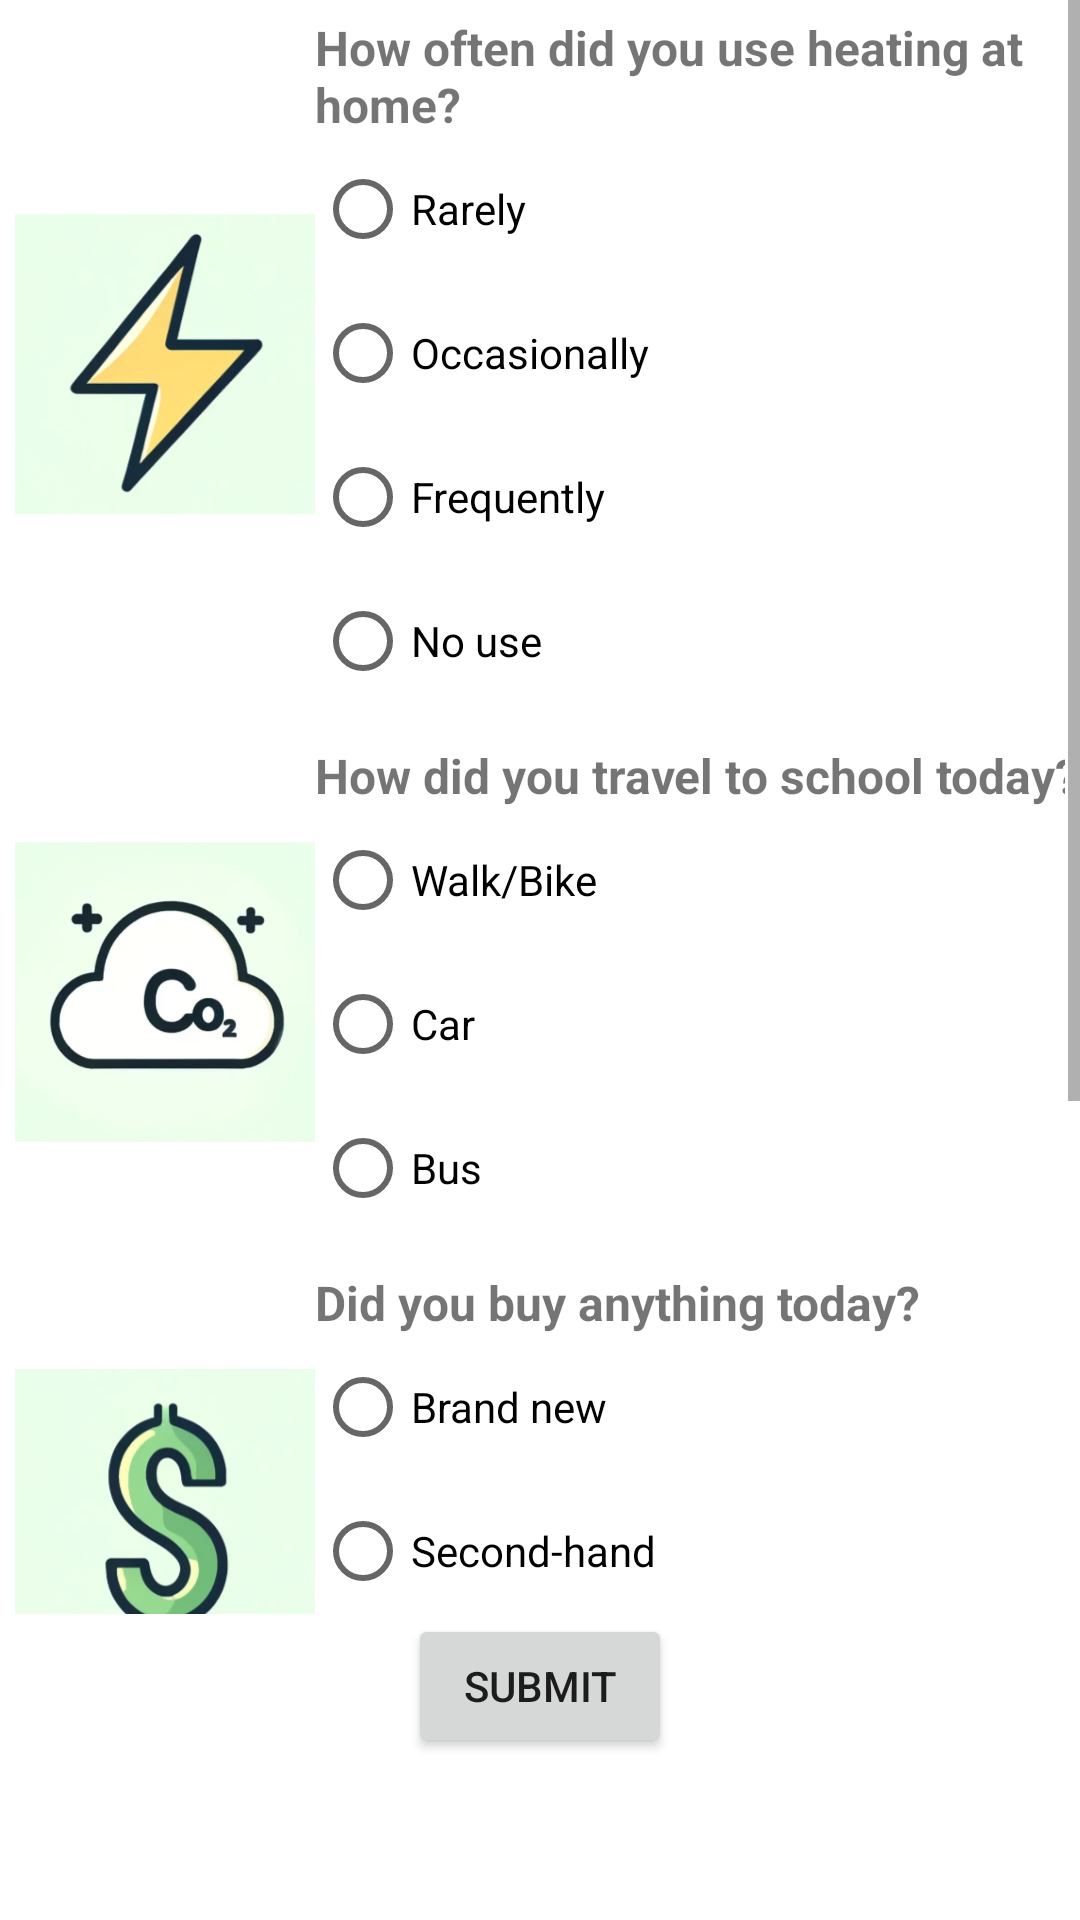

Icons on this 1080 × 1920 Android screen, each with the point to tap as point (x, y):
lightning bolt: point (165, 364)
